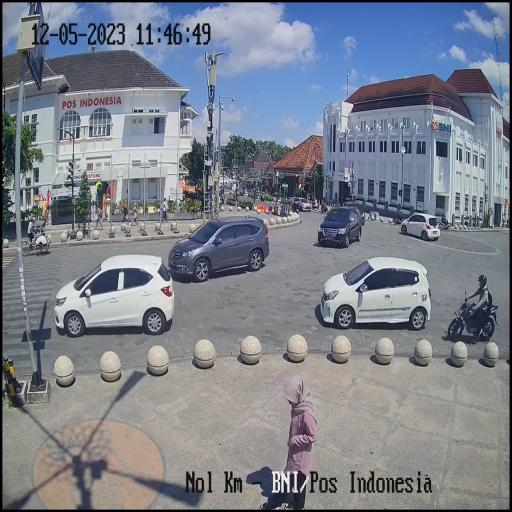mobil: (56, 256, 174, 338), (322, 257, 432, 330), (170, 214, 270, 283), (316, 206, 362, 248), (400, 212, 440, 242)
motor: (447, 289, 497, 347)
